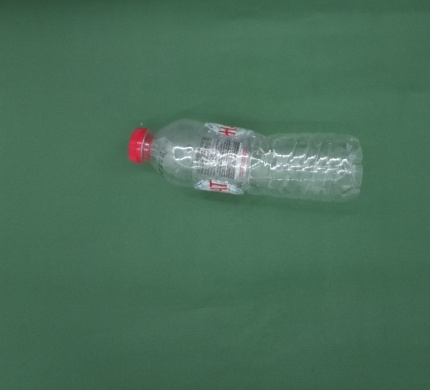plastic_bottle: (127, 117, 363, 202)
